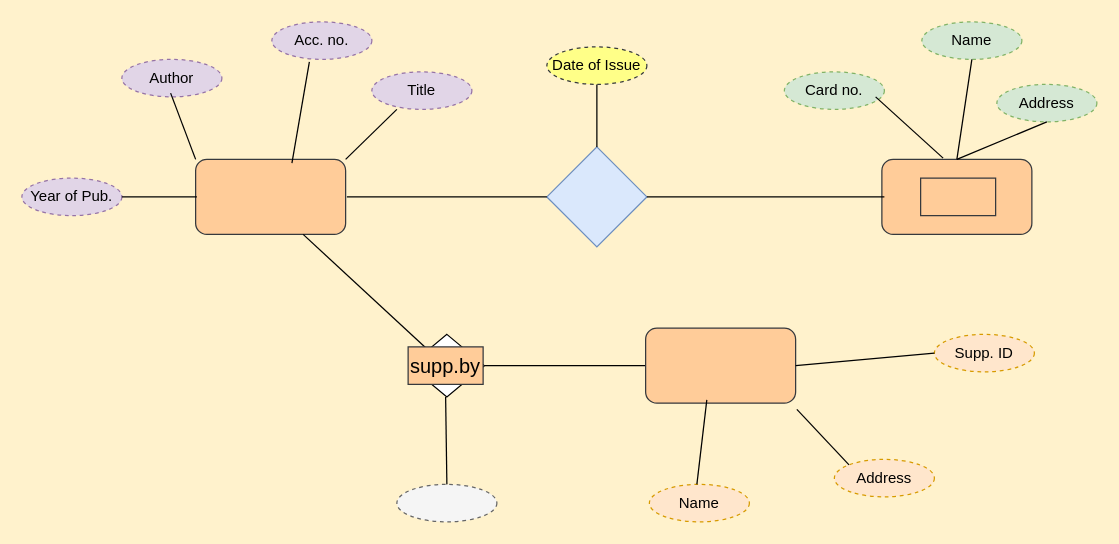
This 1119x544 diagram has some shape labels left out. Each missing label, with the centre of its shape:
"BOOK" goes at point 270,196.
"Borrowed by" goes at point 596,196.
"Date of Supp." goes at point 446,502.
"Supplier" goes at point 720,365.
"USER" goes at point 957,196.
